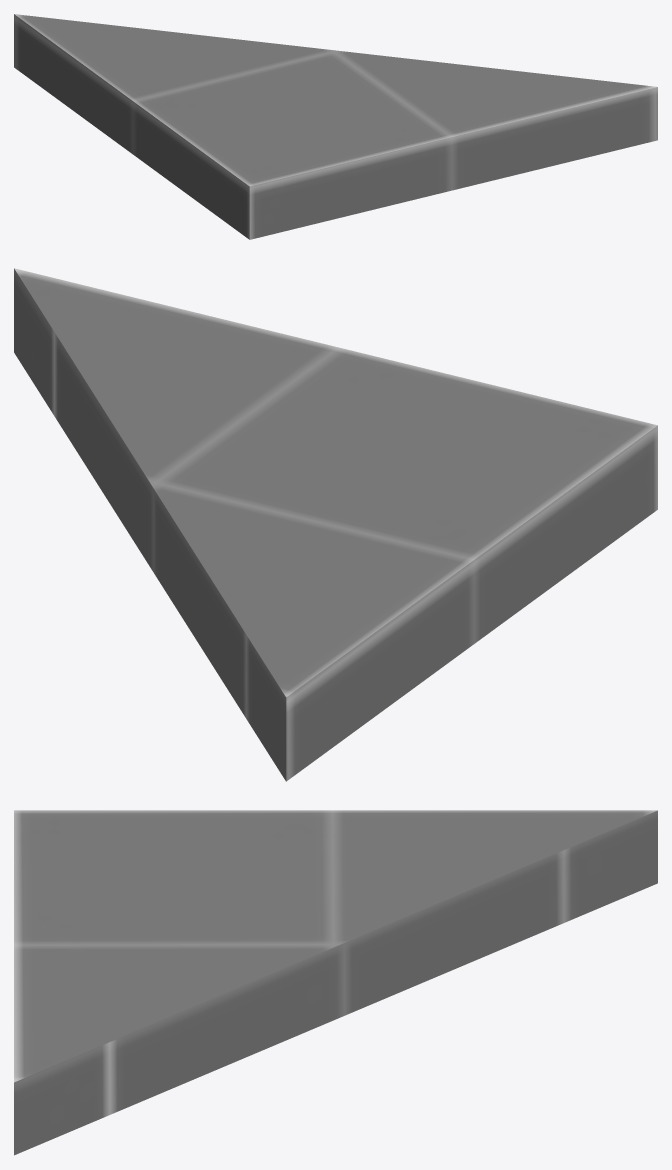
Rendered from PlatformCorner_A.fbx.
The picture shows the model from 3 angles, top to bottom: view 1: azimuth 30°, elevation 25°; view 2: azimuth 150°, elevation 25°; view 3: azimuth 270°, elevation 25°; orthographic projection. The views are drawn at different scales.
Visible parts, largest first — view 1: Plateforme03; view 2: Plateforme03; view 3: Plateforme03.
Boxes of the visible parts, <box> form: Plateforme03: <box>14,14,657,239</box>; Plateforme03: <box>14,268,657,781</box>; Plateforme03: <box>14,810,657,1155</box>.
Size of the model in its own units: 8 by 8 by 1.
1 material, 1 textured.
